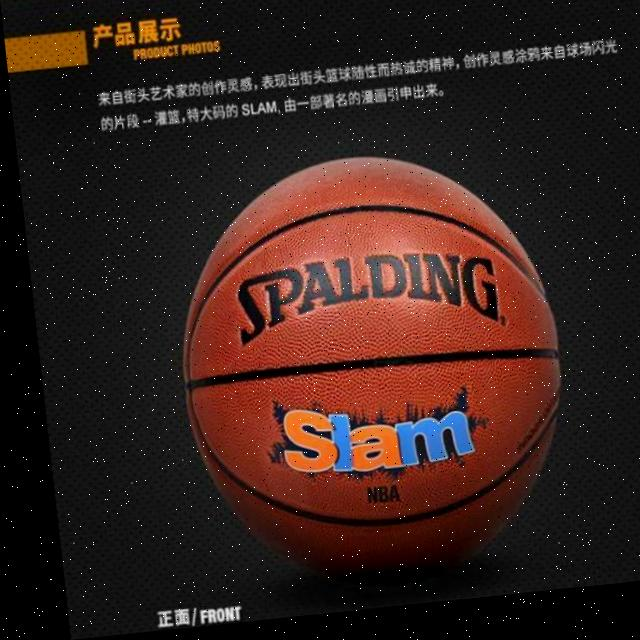Basketball: (160, 136, 581, 588)
